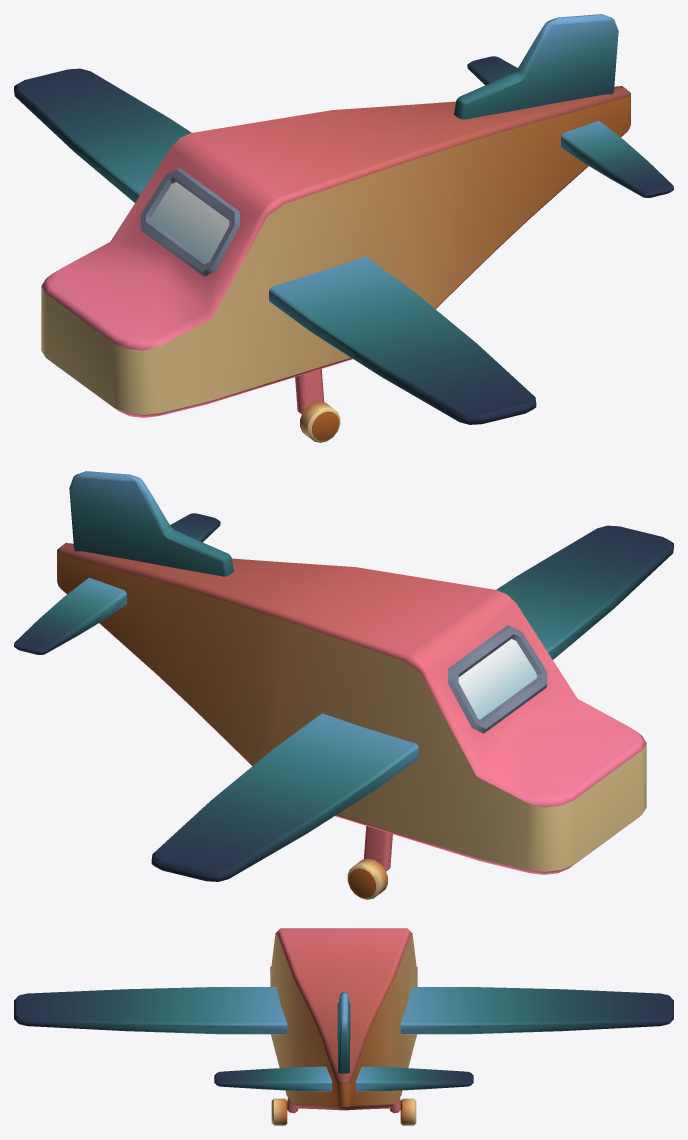
Rendered from SM_ToyAirPlane.fbx.
3 renders of one model, top to bottom at view 1: azimuth 30°, elevation 25°; view 2: azimuth 150°, elevation 25°; view 3: azimuth 270°, elevation 25°, orthographic. The views are drawn at different scales.
Visible parts, largest first — view 1: SM_ToyAirPlane.002; view 2: SM_ToyAirPlane.002; view 3: SM_ToyAirPlane.002.
Boxes of the visible parts, x1,y1,x2,y2 form: SM_ToyAirPlane.002: [14, 14, 673, 442]; SM_ToyAirPlane.002: [14, 471, 673, 899]; SM_ToyAirPlane.002: [14, 928, 673, 1125].
Size of the model in its own units: 80.76 by 44.82 by 117.
